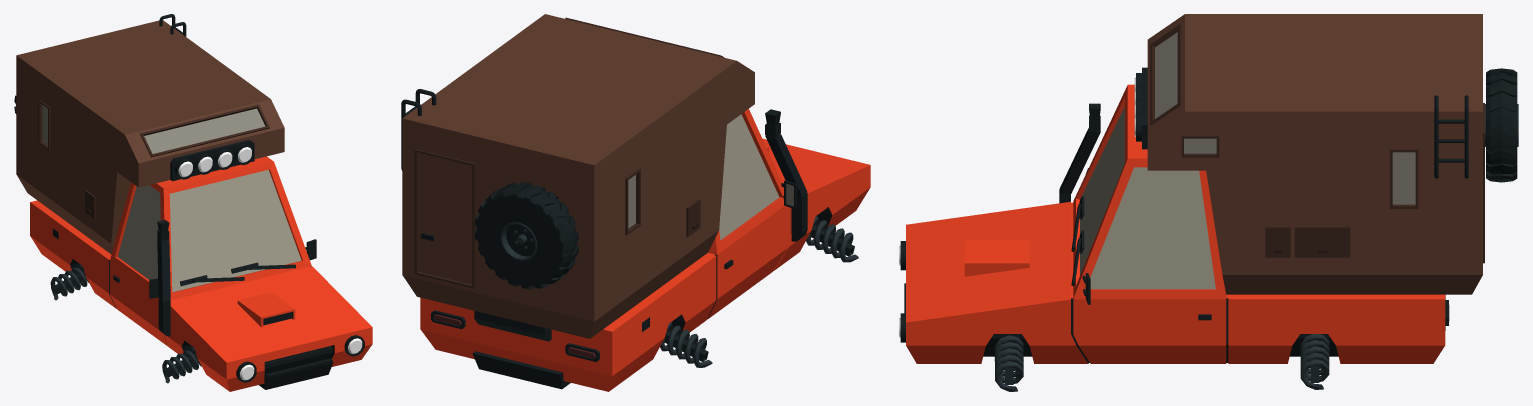
Rendered from car.obj.
The picture shows the model from 3 angles, left to right: view 1: azimuth 30°, elevation 25°; view 2: azimuth 150°, elevation 25°; view 3: azimuth 270°, elevation 25°; orthographic projection. The views are drawn at different scales.
Parts seen in each view (by area): view 1: Frame_Orange_0; view 2: Frame_Orange_0; view 3: Frame_Orange_0.
Boxes of the visible parts, bbox=[...] form: Frame_Orange_0: bbox=[14, 14, 372, 391]; Frame_Orange_0: bbox=[401, 14, 870, 391]; Frame_Orange_0: bbox=[899, 14, 1518, 391].
Bounding box in the file's own units: 2 × 2 × 4.
